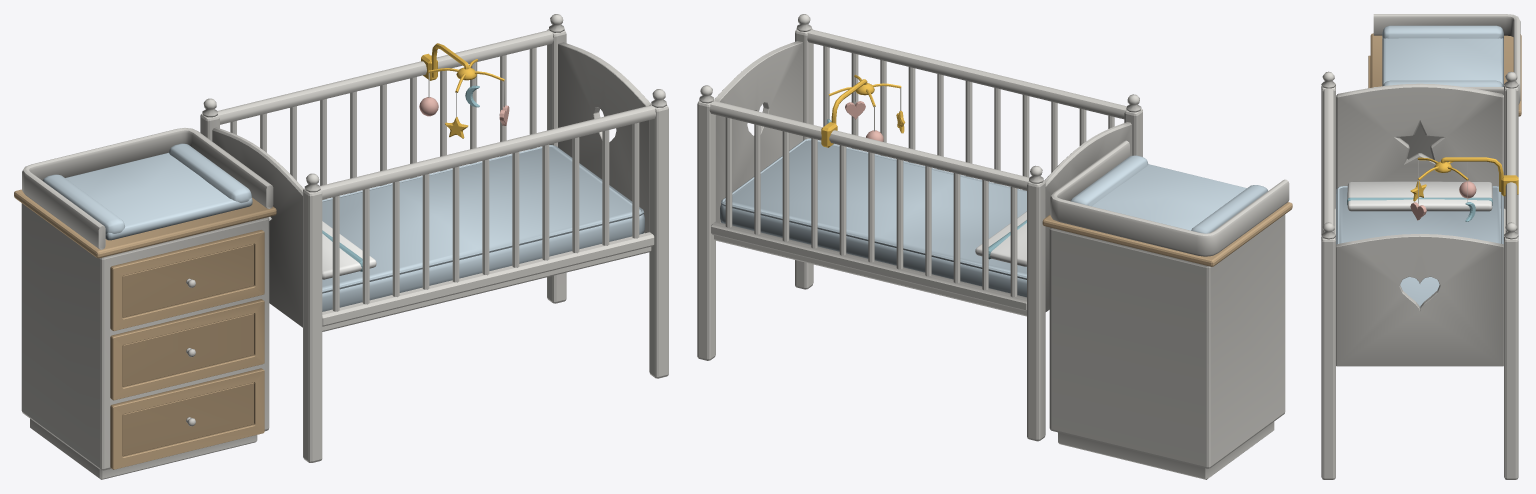
File: crib.glb
3 views of the same model, side by side, from view 1: azimuth 30°, elevation 25°; view 2: azimuth 150°, elevation 25°; view 3: azimuth 270°, elevation 25° (orthographic). The views are drawn at different scales.
Parts seen in each view (by area): view 1: body, front_rail, mobile; view 2: body, front_rail, mobile; view 3: body, front_rail, mobile.
Part boxes in pixels (x1,y1,x2,y2): body: [14, 14, 668, 479]; front_rail: [320, 105, 655, 326]; mobile: [419, 59, 509, 138]; body: [697, 14, 1292, 479]; front_rail: [807, 29, 1126, 190]; mobile: [827, 74, 905, 141]; body: [1321, 14, 1521, 479]; front_rail: [1323, 88, 1334, 232]; mobile: [1410, 157, 1476, 221].
Size of the model in its own units: 1.93 by 1.01 by 0.69.
